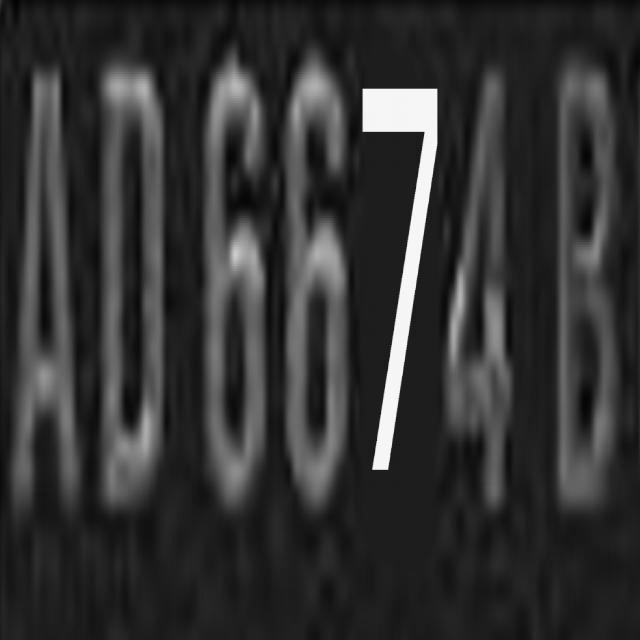4: (442, 53, 526, 513)
6: (180, 53, 270, 509), (276, 56, 361, 536)
7: (356, 76, 448, 484)
A: (0, 43, 92, 519)
B: (546, 51, 632, 526)
D: (88, 56, 173, 516)
